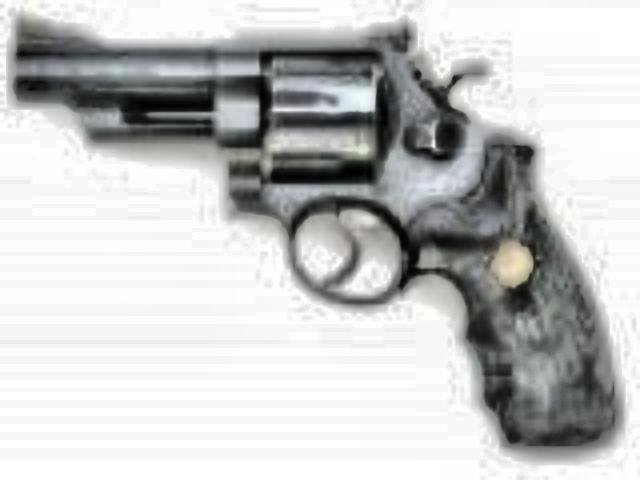pistol: (4, 0, 620, 452)
